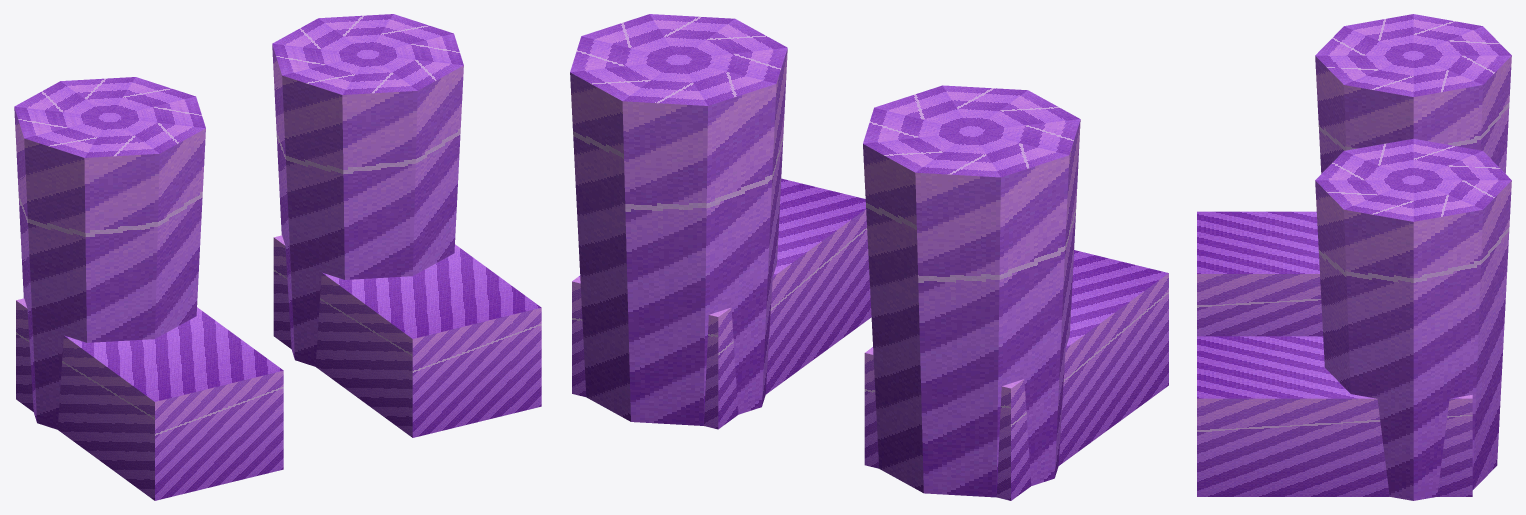
The model's file is botas_de_ametista.glb.
The picture shows the model from 3 angles, left to right: view 1: azimuth 30°, elevation 25°; view 2: azimuth 150°, elevation 25°; view 3: azimuth 270°, elevation 25°; orthographic projection. The views are drawn at different scales.
Visible parts, largest first — view 1: botas_de_ametista; view 2: botas_de_ametista; view 3: botas_de_ametista.
Boxes of the visible parts, left/top/right/bottom form: botas_de_ametista: left=14, top=14, right=541, bottom=500; botas_de_ametista: left=570, top=14, right=1168, bottom=500; botas_de_ametista: left=1197, top=14, right=1511, bottom=500.
Size of the model in its own units: 0.5 by 0.32 by 0.32.
1 material, 1 textured.
